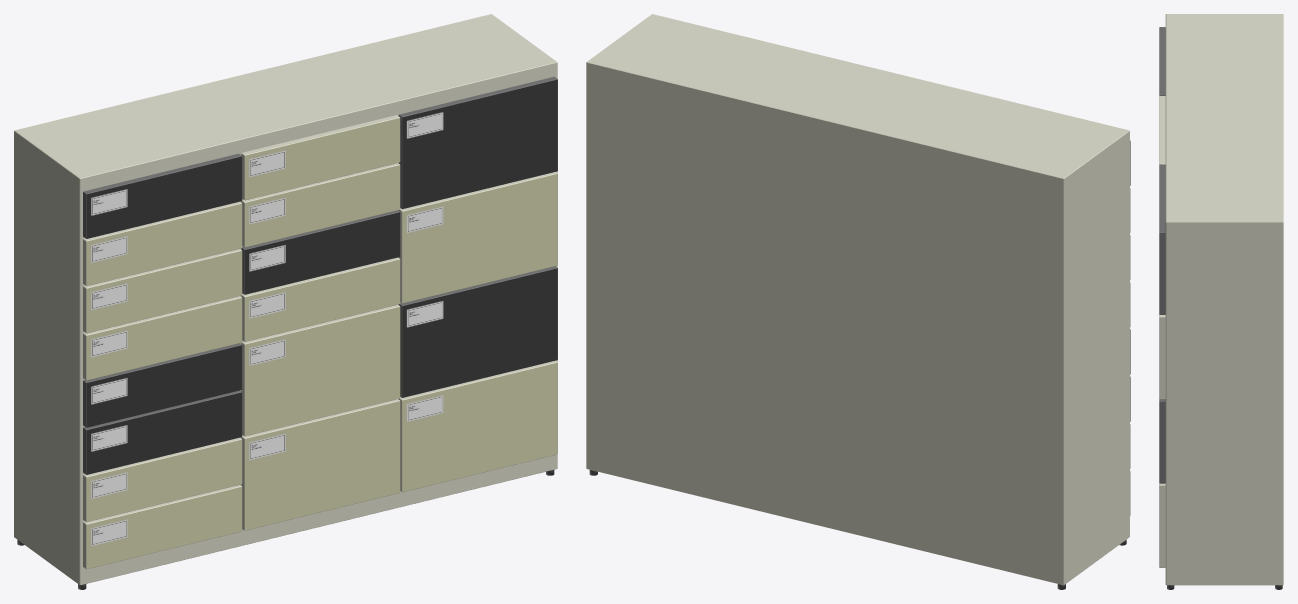
File: sweethome3d-scopia-box-45.glb
3 views of the same model, side by side, from view 1: azimuth 30°, elevation 25°; view 2: azimuth 150°, elevation 25°; view 3: azimuth 270°, elevation 25° (orthographic). The views are drawn at different scales.
Parts seen in each view (by area): view 1: oficina_armario_Cube.161; view 2: oficina_armario_Cube.161; view 3: oficina_armario_Cube.161.
Boxes of the visible parts, box(x1,y1,x2,y2) form: oficina_armario_Cube.161: box(14, 14, 557, 589); oficina_armario_Cube.161: box(586, 14, 1130, 589); oficina_armario_Cube.161: box(1159, 14, 1283, 589).
Size of the model in its own units: 158 by 131 by 40.
Materials: 7 (4 with a texture image).
